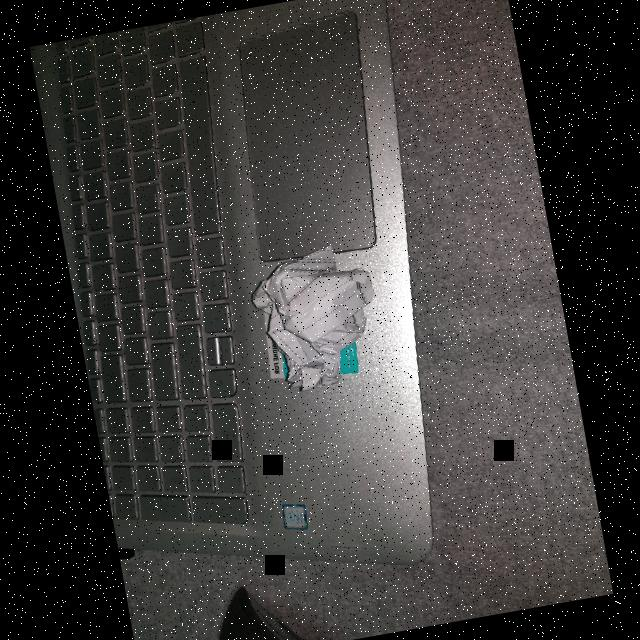scrap_paper: (236, 230, 397, 408)
